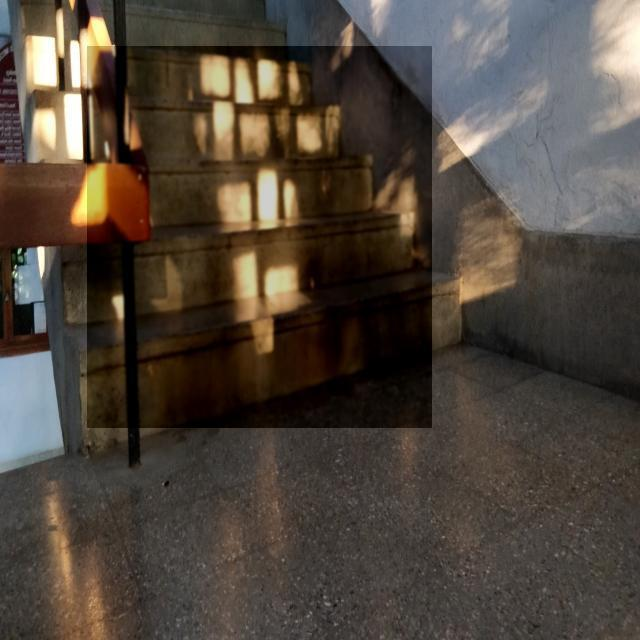stair: (87, 46, 432, 428)
